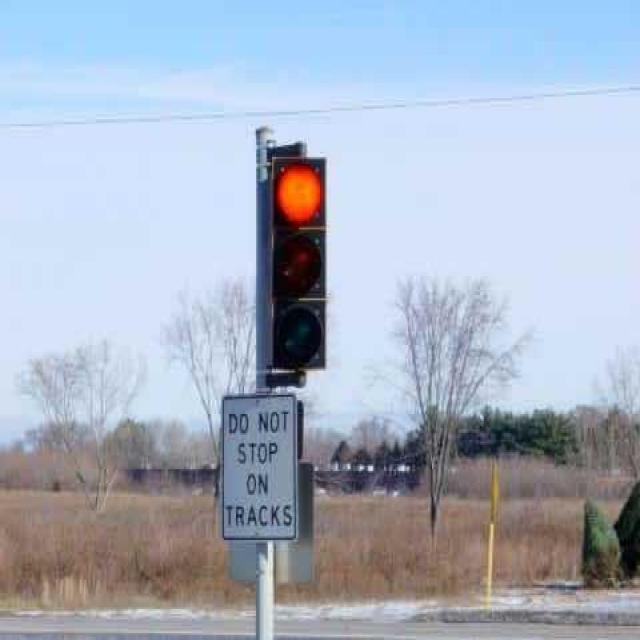Traffic Light -Red-: (261, 150, 332, 374)
